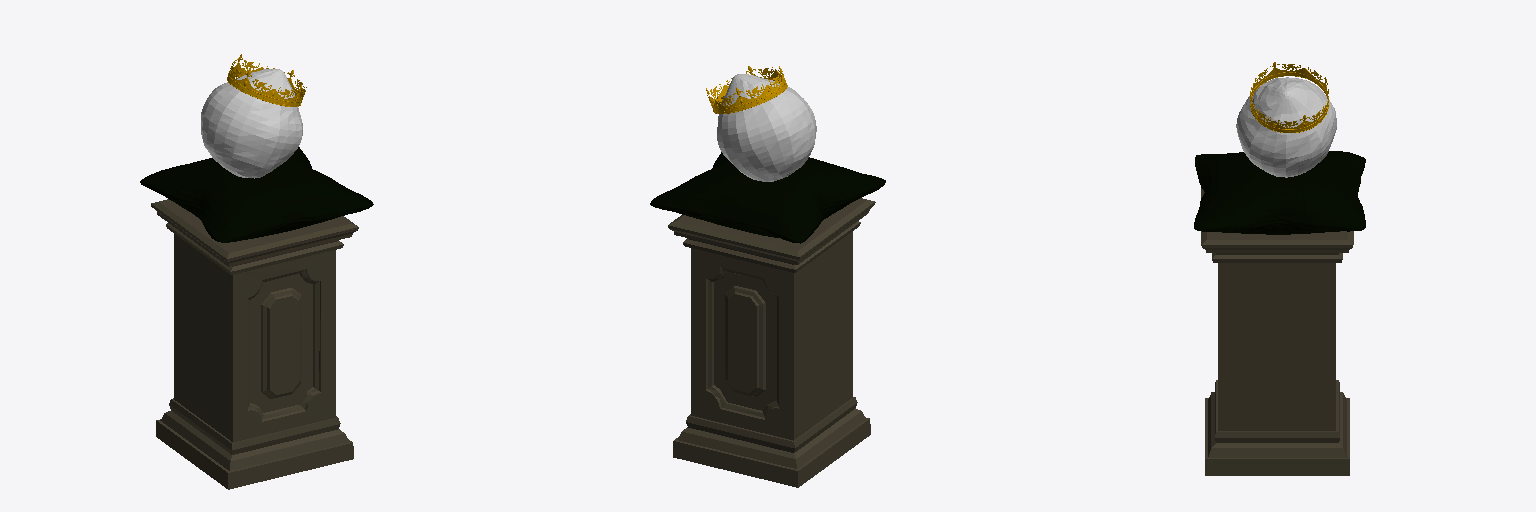
File: trophy_hacker.obj
3 views of the same model, side by side, from view 1: azimuth 30°, elevation 25°; view 2: azimuth 150°, elevation 25°; view 3: azimuth 270°, elevation 25° (orthographic).
Visible parts, largest first — view 1: 001_Pedestal_low_poly, pillow, hazelnut.001, Crown; view 2: 001_Pedestal_low_poly, pillow, hazelnut.001, Crown; view 3: 001_Pedestal_low_poly, pillow, hazelnut.001, Crown.
Part boxes in pixels (x1,y1,x2,y2): 001_Pedestal_low_poly: (151,199,358,489); pillow: (140,147,373,242); hazelnut.001: (201,69,302,178); Crown: (227,54,306,106); 001_Pedestal_low_poly: (668,198,875,487); pillow: (650,152,885,243); hazelnut.001: (717,74,816,181); Crown: (706,66,787,113); 001_Pedestal_low_poly: (1201,188,1353,475); pillow: (1194,151,1365,234); hazelnut.001: (1236,77,1336,177); Crown: (1250,62,1328,132).
Bounding box in the file's own units: 2.55 × 5.96 × 2.44.